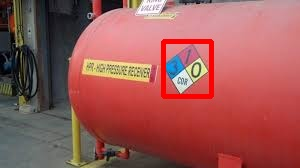nfpa: (163, 41, 211, 96)
